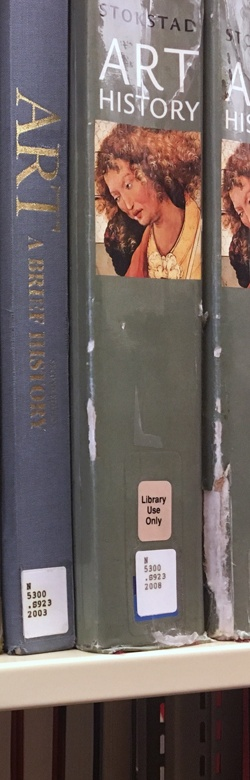call_number: (18, 570, 71, 633), (134, 550, 180, 614)
